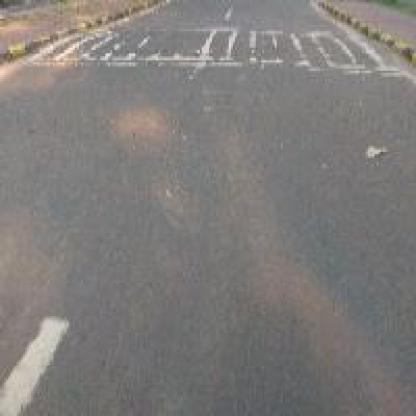Speed Bump: (27, 24, 408, 78)
